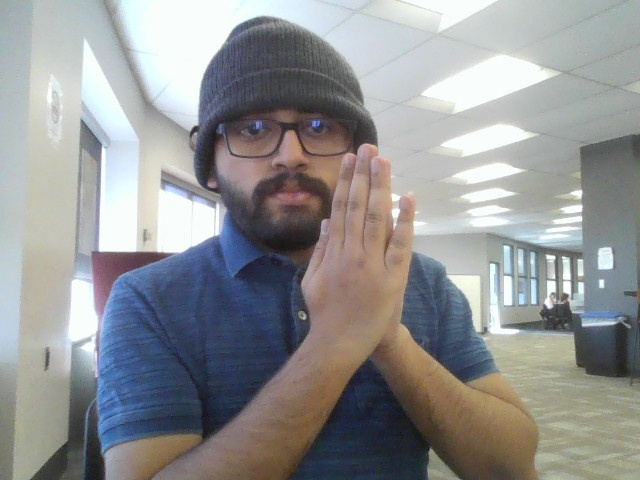start: (293, 139, 427, 353)
